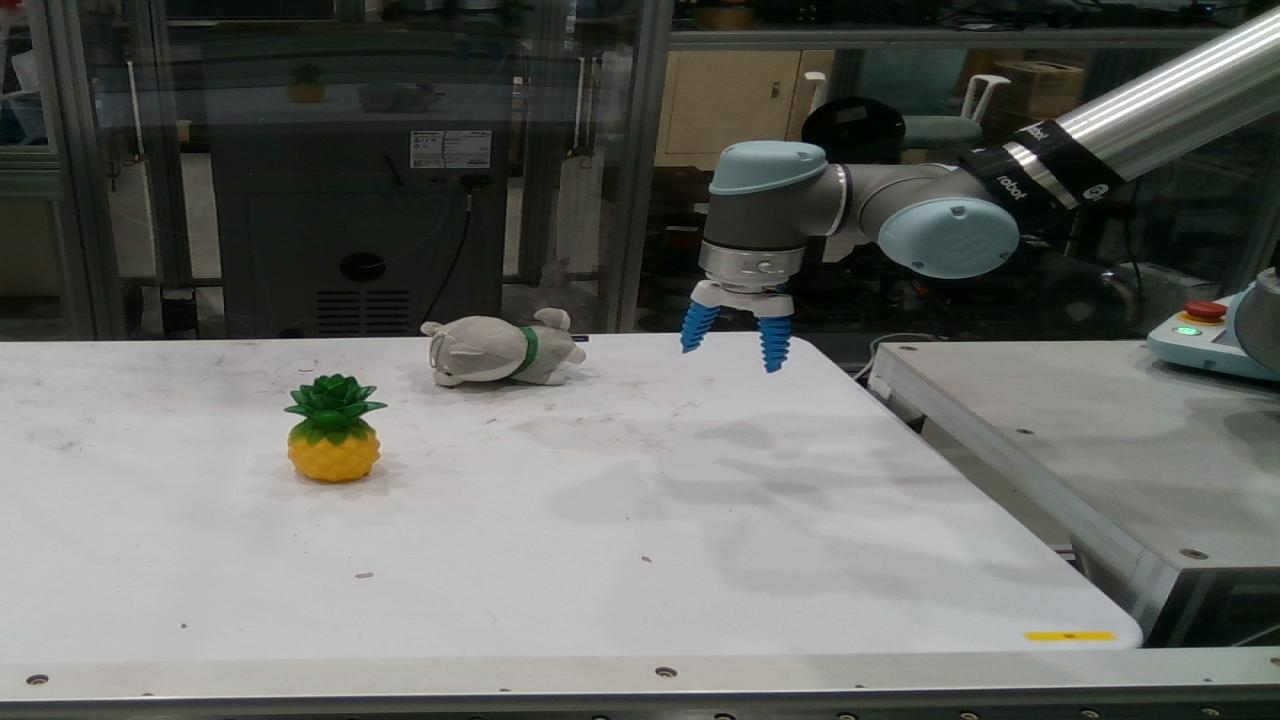UR5: (694, 7, 1279, 318), (1226, 271, 1279, 372)
gripper_left: (682, 301, 719, 352)
gripper_right: (756, 315, 787, 372)
target: (422, 308, 585, 387), (285, 375, 383, 482)
